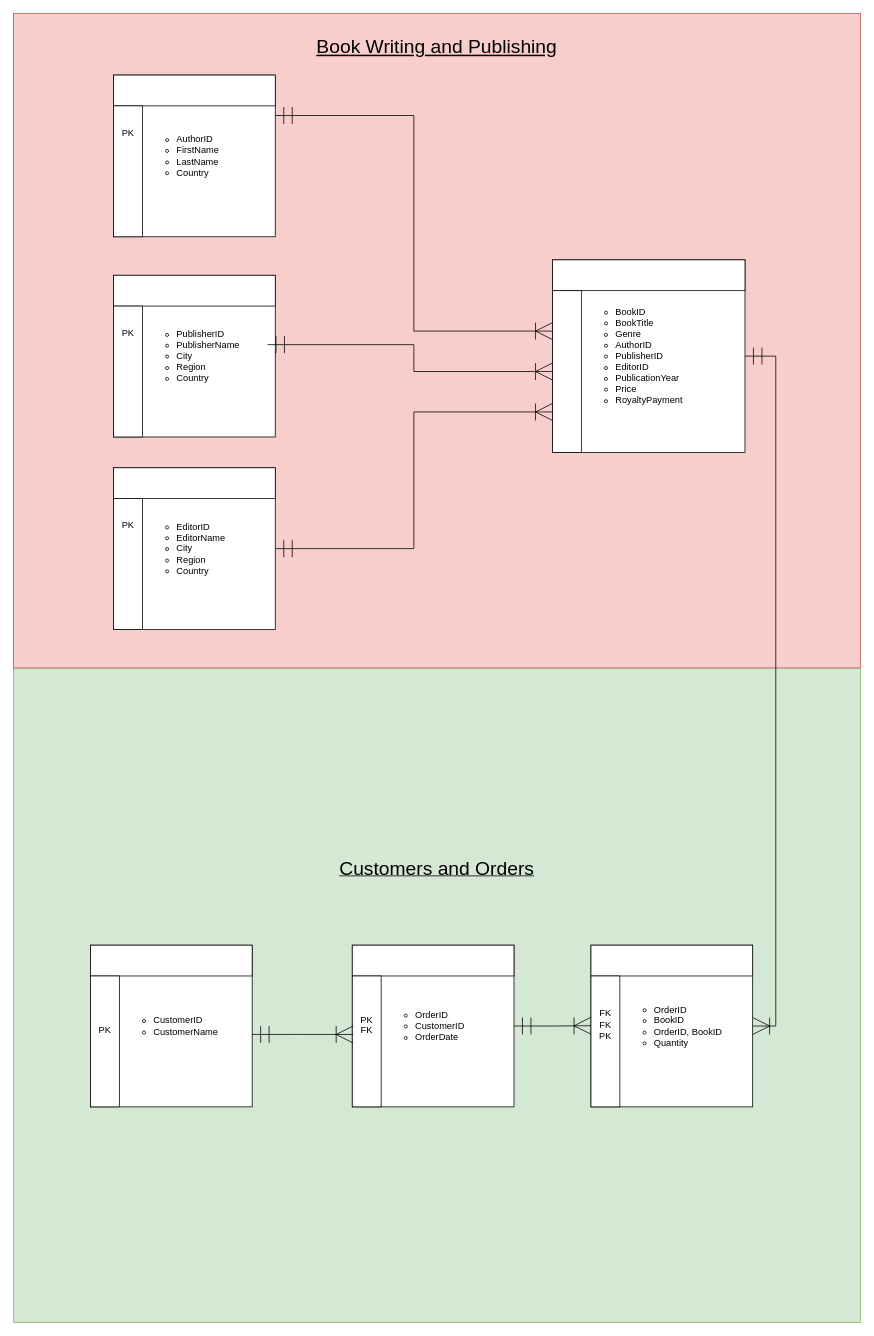
This 874x1336 diagram has some shape labels left out. Each missing label, with the centre of its shape:
Authors: (x=194, y=90)
Books: (x=648, y=275)
Customers: (x=171, y=960)
Editors: (x=194, y=483)
OrderDetails: (x=671, y=960)
Orders: (x=433, y=960)
PK FK FK FK: (x=566, y=371)
Publishers: (x=194, y=290)
